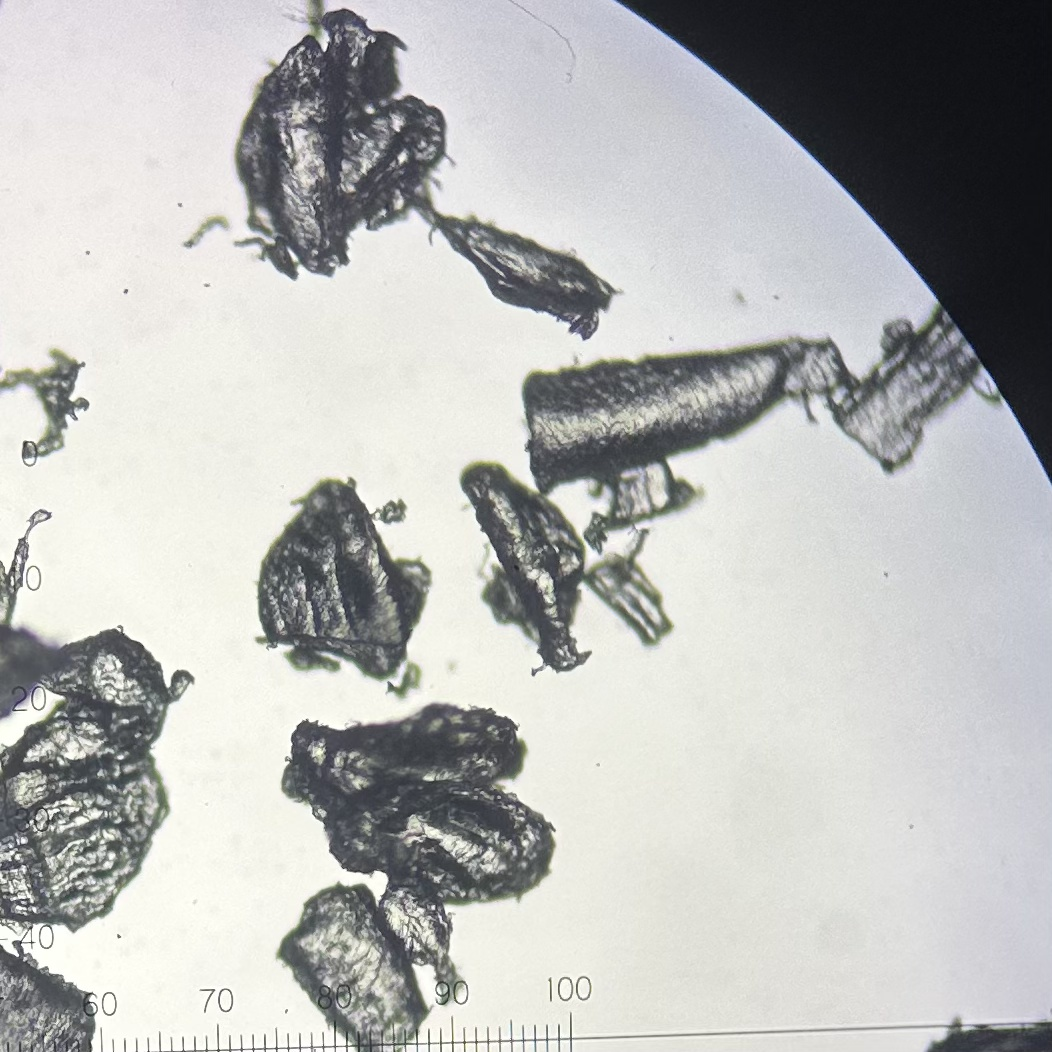microplastic: (278, 699, 563, 1007), (231, 5, 461, 284), (1, 618, 200, 935), (521, 331, 867, 495), (248, 470, 434, 686), (457, 458, 596, 681), (828, 301, 1007, 470), (271, 877, 434, 1052), (425, 210, 626, 346), (1, 937, 100, 1052), (1, 347, 93, 462), (582, 550, 678, 650), (606, 457, 702, 528), (1, 628, 72, 724), (1, 507, 55, 623), (915, 1013, 1052, 1052), (181, 211, 231, 254), (280, 647, 344, 677), (579, 508, 615, 558), (382, 660, 424, 702), (370, 497, 412, 531), (620, 529, 646, 581), (304, 1, 328, 42)
